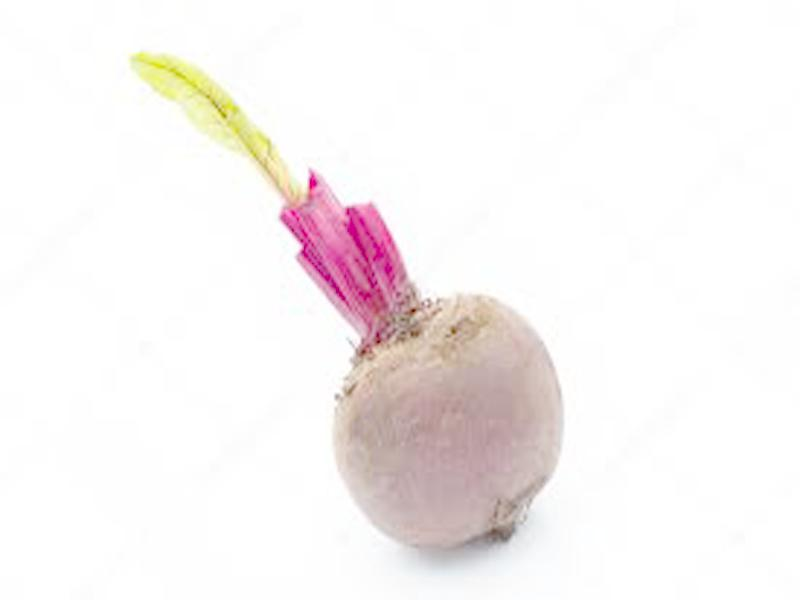Beet: (134, 52, 564, 548)
